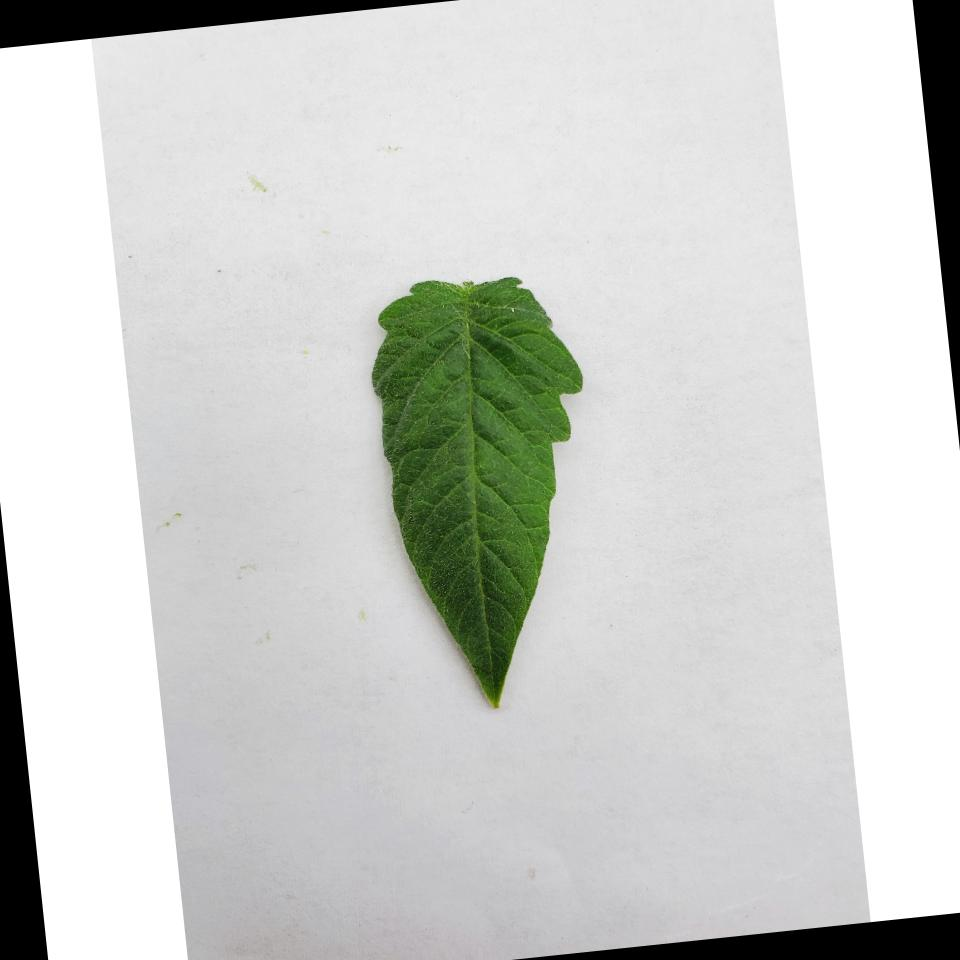tomato_leaves: (364, 258, 612, 716)
